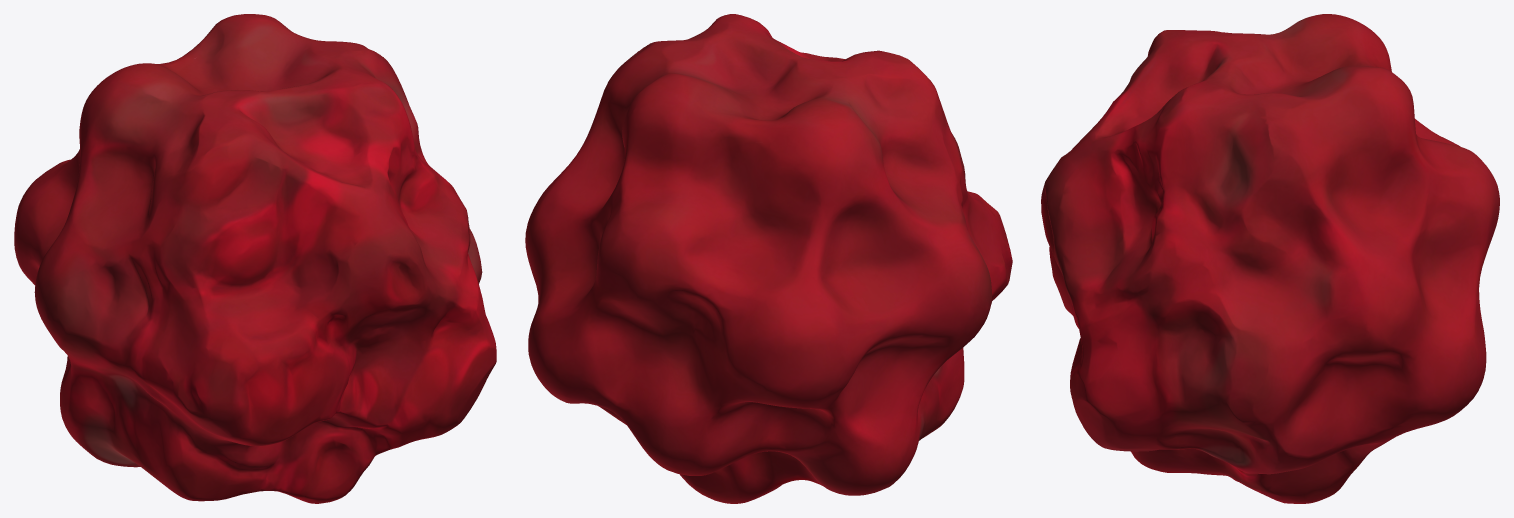
Rendered from Linfi.glb.
3 renders of one model, left to right at view 1: azimuth 30°, elevation 25°; view 2: azimuth 150°, elevation 25°; view 3: azimuth 270°, elevation 25°, orthographic.
Visible parts, largest first — view 1: tripo_node_dfe3e916-81d5-4e44-ab03-a2f71b397248; view 2: tripo_node_dfe3e916-81d5-4e44-ab03-a2f71b397248; view 3: tripo_node_dfe3e916-81d5-4e44-ab03-a2f71b397248.
Boxes of the visible parts, x1,y1,x2,y2 form: tripo_node_dfe3e916-81d5-4e44-ab03-a2f71b397248: (14, 14, 496, 503); tripo_node_dfe3e916-81d5-4e44-ab03-a2f71b397248: (525, 14, 1012, 503); tripo_node_dfe3e916-81d5-4e44-ab03-a2f71b397248: (1041, 14, 1499, 503).
Size of the model in its own units: 0.98 by 0.9522 by 0.9029.
Materials: 1 (1 with a texture image).
